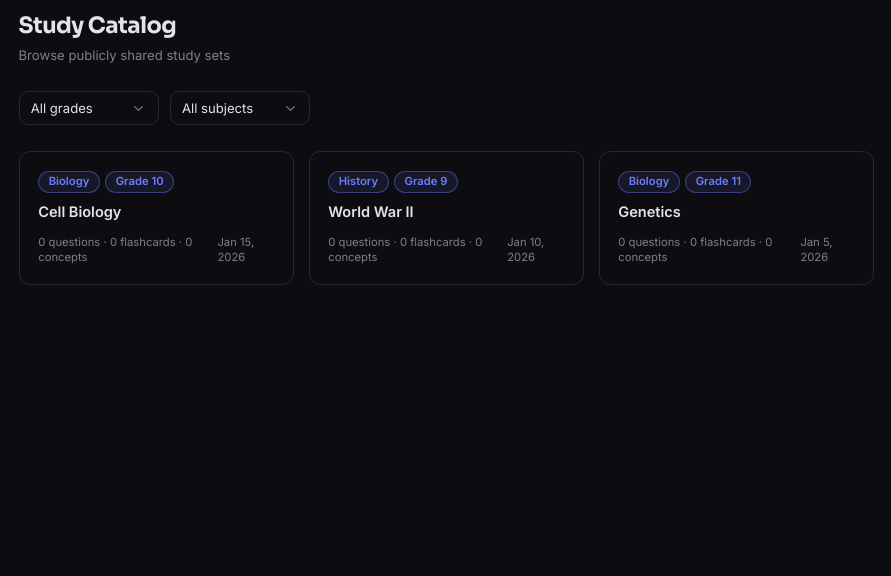
Test: CatalogPage — filtering › shows empty message when filters match nothing
What coordinates should you click on to do the following:
click the dropdown named "filter by grade"
I would click on:
 (88, 108)
Its box is [18, 91, 158, 125].
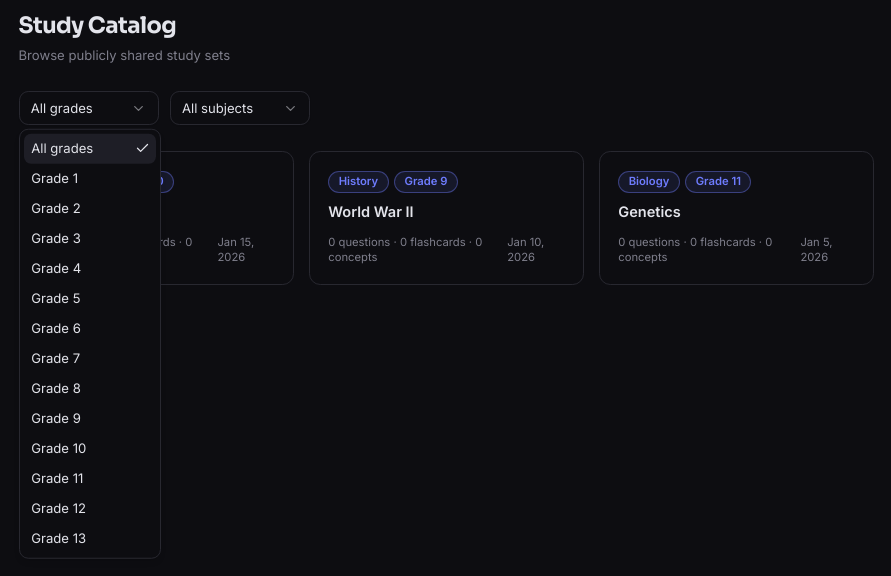
What coordinates should you click on to do the following:
click the option "Grade 13"
I would click on:
 (59, 538)
Its box is [31, 530, 86, 546].
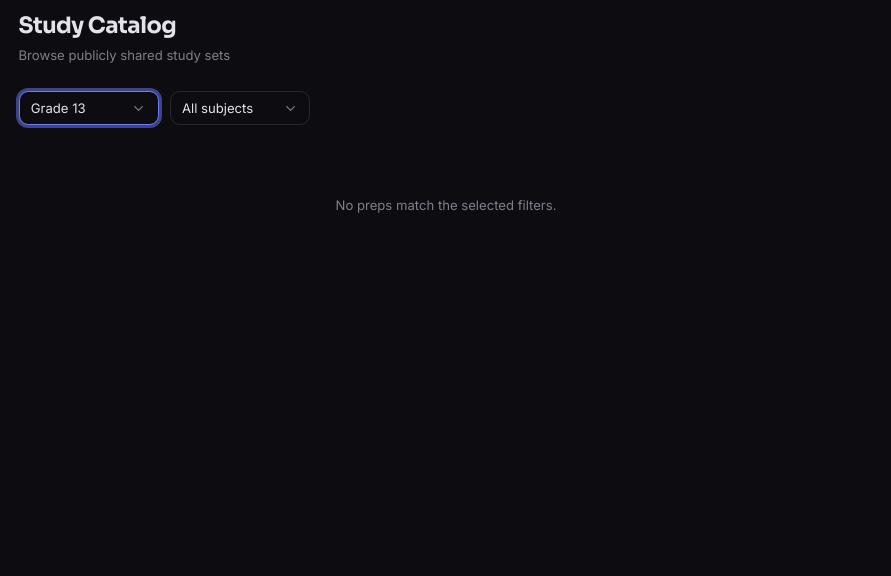
Expected: the text "No preps match the selected filters." is shown, [336, 197, 556, 213]
